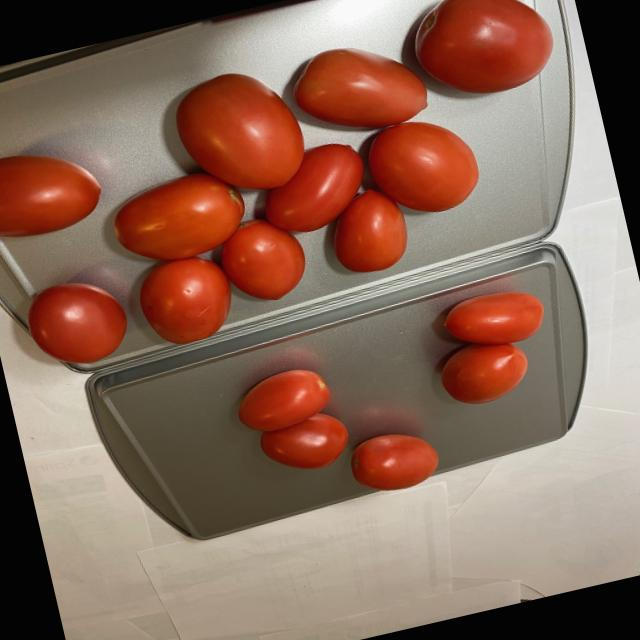tomato: (0, 0, 605, 380), (224, 281, 586, 524)
